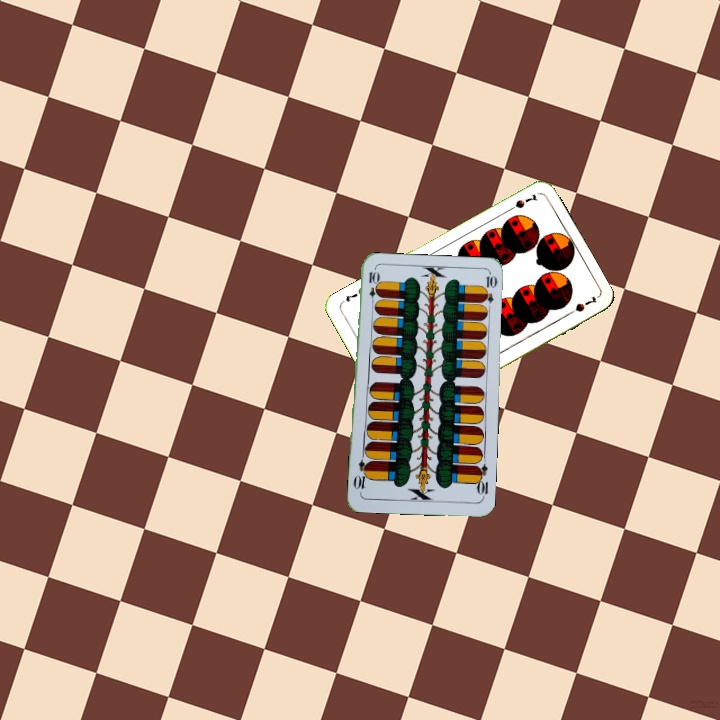E10: (472, 460, 491, 501), (365, 267, 379, 308)
S7: (503, 190, 540, 214)
